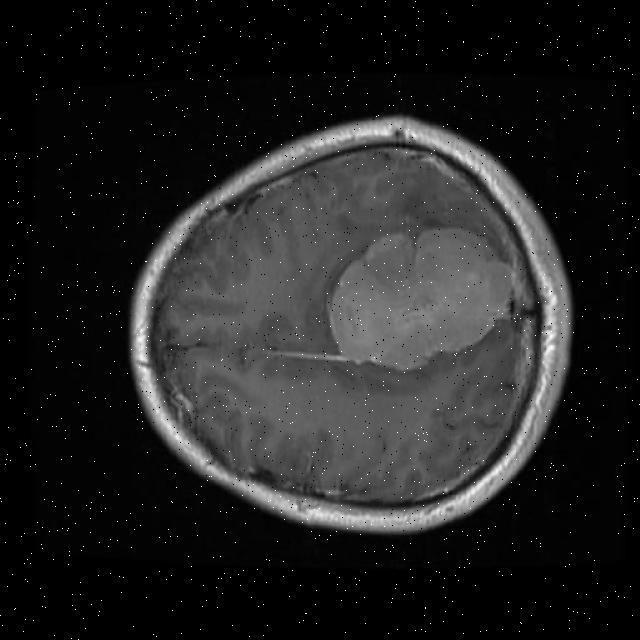Meningioma: (329, 227, 514, 370)
